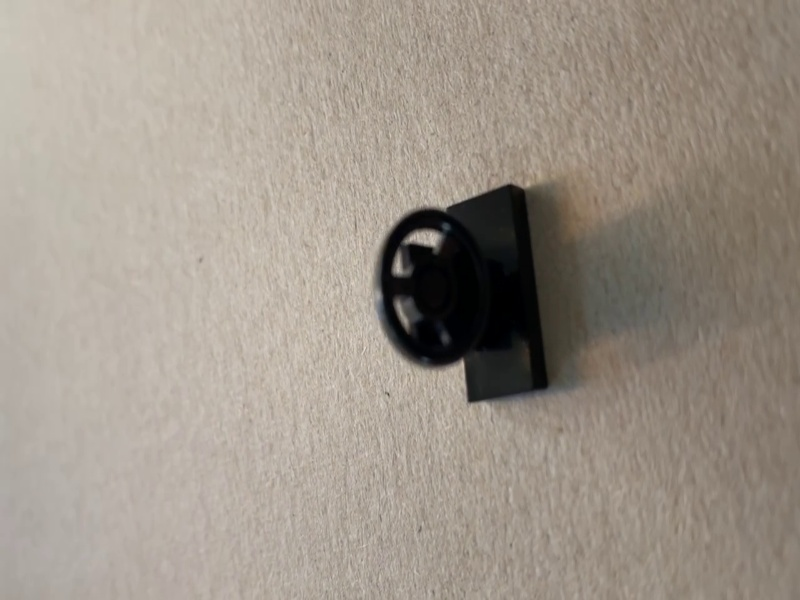steering wheel: (370, 184, 552, 405)
